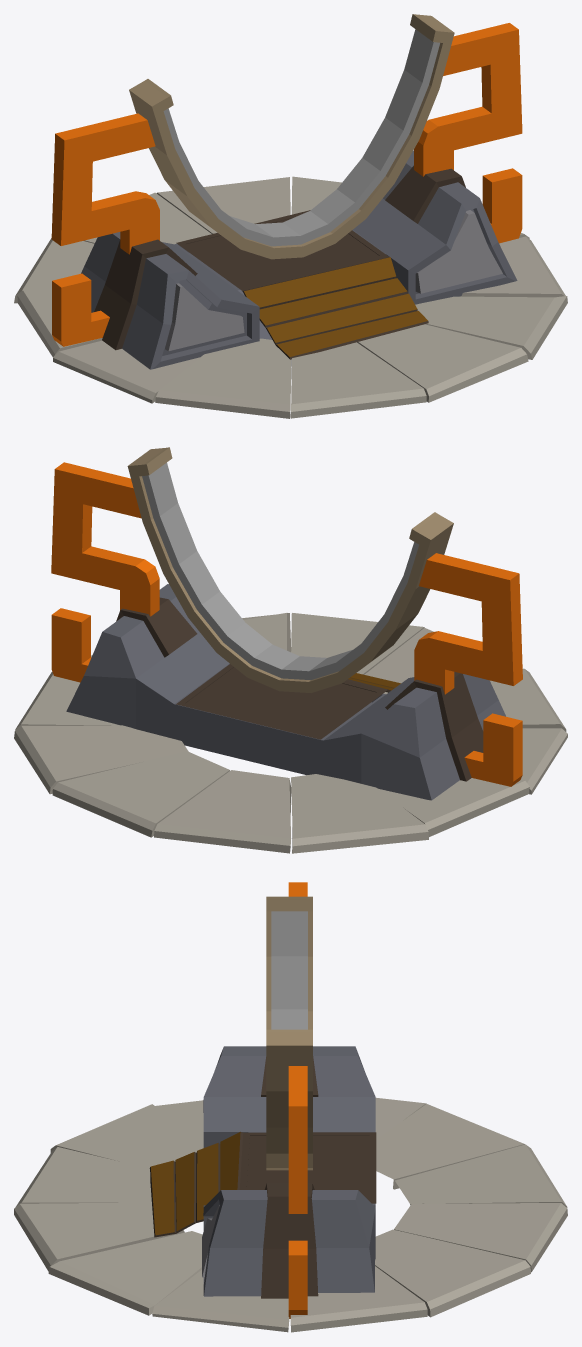
3 renders of one model, top to bottom at view 1: azimuth 30°, elevation 25°; view 2: azimuth 150°, elevation 25°; view 3: azimuth 270°, elevation 25°, orthographic.
Parts seen in each view (by area): view 1: Circle.004, Plane.004; view 2: Circle.004, Plane.004; view 3: Circle.004, Plane.004.
Boxes of the visible parts, x1,y1,x2,y2 form: Circle.004: [14, 14, 567, 418]; Plane.004: [51, 23, 522, 346]; Circle.004: [14, 447, 567, 853]; Plane.004: [51, 462, 522, 786]; Circle.004: [14, 896, 567, 1332]; Plane.004: [288, 882, 307, 1318].
Bounding box in the file's own units: 163 × 81.46 × 162.
